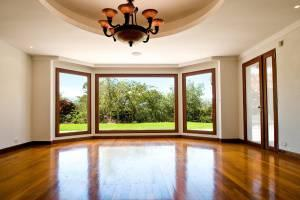window: (55, 67, 215, 134)
